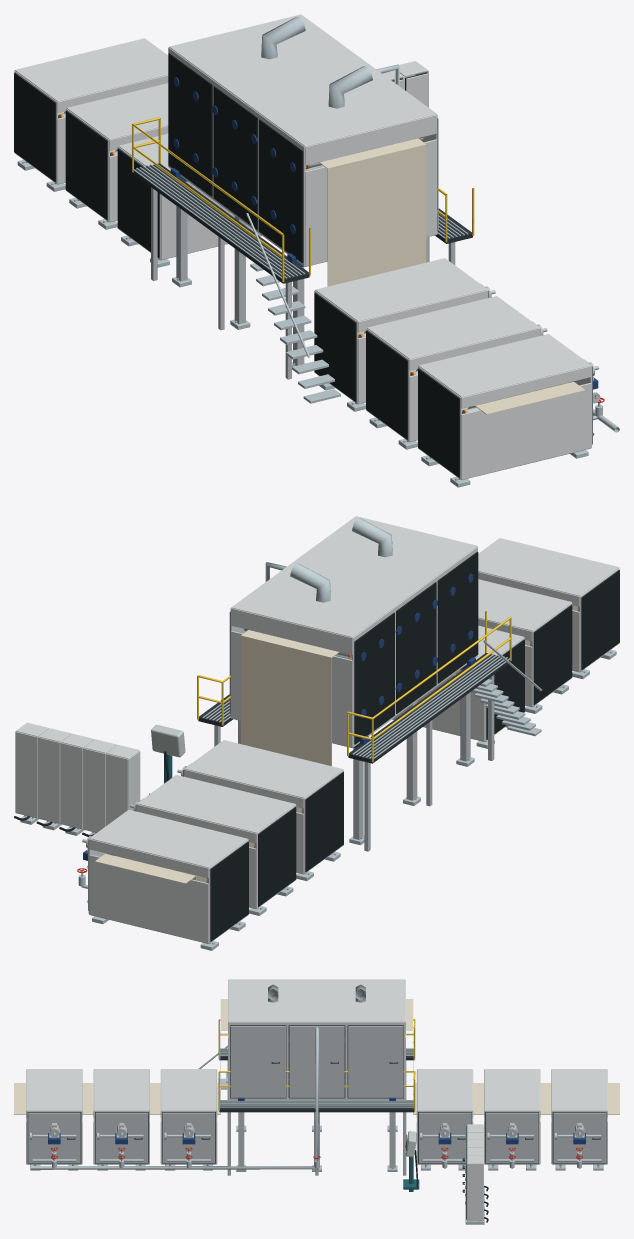
File: pretreatment.glb
The picture shows the model from 3 angles, top to bottom: view 1: azimuth 30°, elevation 25°; view 2: azimuth 150°, elevation 25°; view 3: azimuth 270°, elevation 25°; orthographic projection. The views are drawn at different scales.
Visible parts, largest first — view 1: f3_case_top.006, fabric_web, f3_case_end_opening.020, f3_case_top.003, f3_case_top.005, f3_case_top.004, f3_case_top, panel_gasket.012, panel_gasket.014, panel_gasket.013, panel_gasket.002, f3_case_top.001 (+21 smaller); view 2: f3_case_top.006, fabric_web, f3_case_end_opening.002, f3_case_top, f3_case_top.001, f3_case_top.002, f3_case_top.005, panel_gasket.012, panel_gasket.014, panel_gasket.013, panel_gasket.008, f3_case_top.004 (+29 smaller); view 3: f3_case_top.006, panel_skin.015, panel_skin.017, panel_skin.016, fabric_web, f3_case_top, f3_case_top.005, panel_skin.007, f3_case_top.001, f3_case_top.002, f3_case_top.003, f3_case_top.004 (+21 smaller).
Part boxes in pixels (left/top/right/bottom): f3_case_top.006: left=169, top=14, right=436, bottom=146; fabric_web: left=58, top=111, right=585, bottom=414; f3_case_end_opening.020: left=461, top=383, right=591, bottom=479; f3_case_top.003: left=315, top=258, right=487, bottom=321; f3_case_top.005: left=419, top=334, right=591, bottom=397; f3_case_top.004: left=367, top=296, right=539, bottom=359; f3_case_top: left=15, top=38, right=168, bottom=101; panel_gasket.012: left=259, top=119, right=303, bottom=262; panel_gasket.014: left=168, top=53, right=212, bottom=196; panel_gasket.013: left=213, top=86, right=257, bottom=229; panel_gasket.002: left=65, top=111, right=107, bottom=219; f3_case_top.001: left=66, top=83, right=168, bottom=139; f3_case_top.006: left=231, top=516, right=477, bottom=637; fabric_web: left=95, top=605, right=579, bottom=883; f3_case_end_opening.002: left=89, top=854, right=208, bottom=943; f3_case_top: left=89, top=809, right=247, bottom=867; f3_case_top.001: left=137, top=775, right=295, bottom=833; f3_case_top.002: left=185, top=740, right=342, bottom=798; f3_case_top.005: left=478, top=538, right=618, bottom=596; panel_gasket.012: left=437, top=551, right=478, bottom=683; panel_gasket.014: left=354, top=612, right=394, bottom=744; panel_gasket.013: left=396, top=582, right=436, bottom=713; panel_gasket.008: left=533, top=604, right=572, bottom=704; f3_case_top.004: left=478, top=579, right=571, bottom=631; f3_case_top.006: left=228, top=979, right=405, bottom=1021; panel_skin.015: left=230, top=1026, right=285, bottom=1097; panel_skin.017: left=348, top=1026, right=403, bottom=1097; panel_skin.016: left=289, top=1026, right=344, bottom=1097; fabric_web: left=14, top=999, right=619, bottom=1114; f3_case_top: left=551, top=1069, right=607, bottom=1110; f3_case_top.005: left=26, top=1069, right=82, bottom=1110; panel_skin.007: left=162, top=1112, right=215, bottom=1163; f3_case_top.001: left=484, top=1069, right=539, bottom=1110; f3_case_top.002: left=417, top=1069, right=472, bottom=1110; f3_case_top.003: left=161, top=1069, right=216, bottom=1110; f3_case_top.004: left=94, top=1069, right=149, bottom=1110.
Size of the model in its own units: 7.61 by 5.59 by 18.
